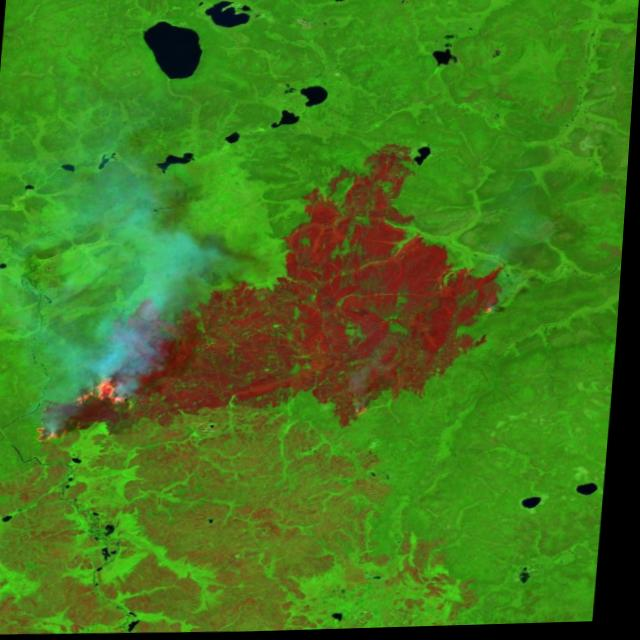fire: (22, 352, 147, 448)
